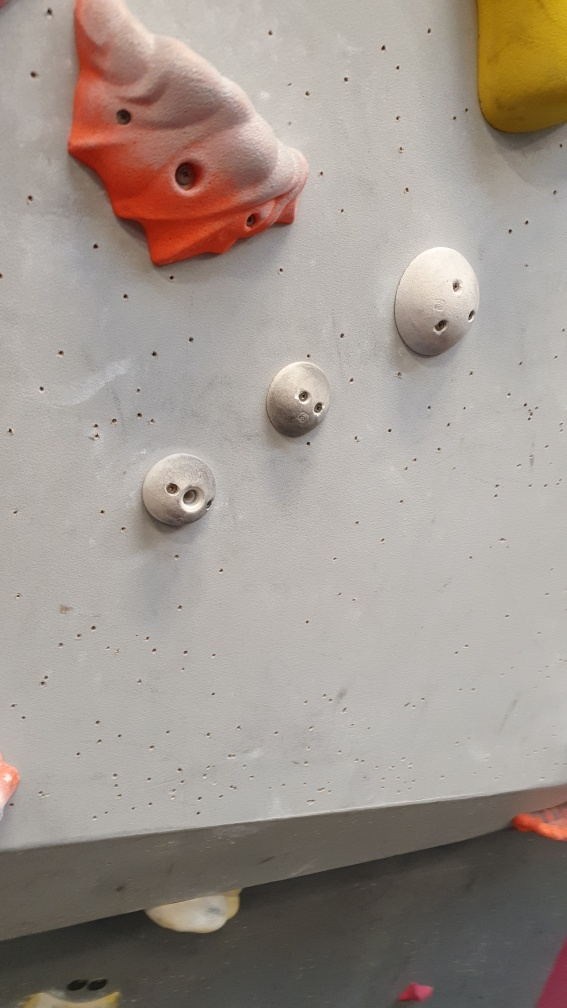Hand Start: (83, 973, 109, 994), (65, 974, 88, 997)
Jug: (65, 1, 313, 273)
Sloper: (390, 244, 478, 364), (138, 450, 220, 532), (263, 361, 339, 441)
